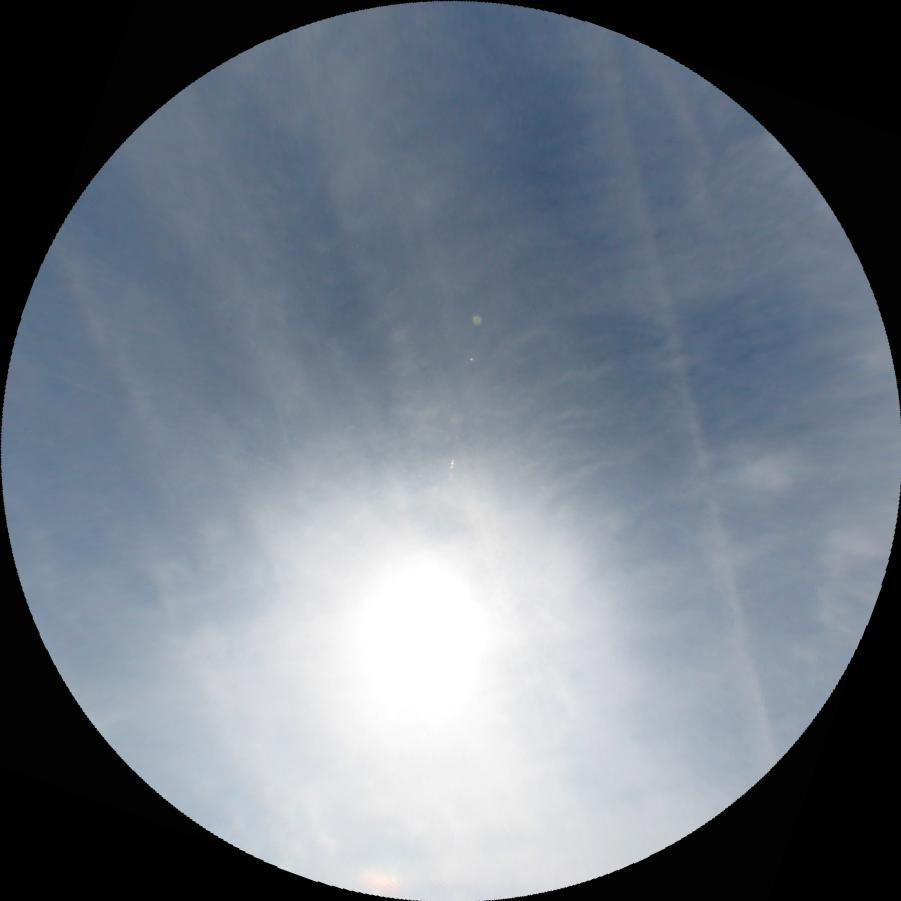contrail veryold: (563, 8, 780, 778)
sun: (336, 543, 505, 717)
